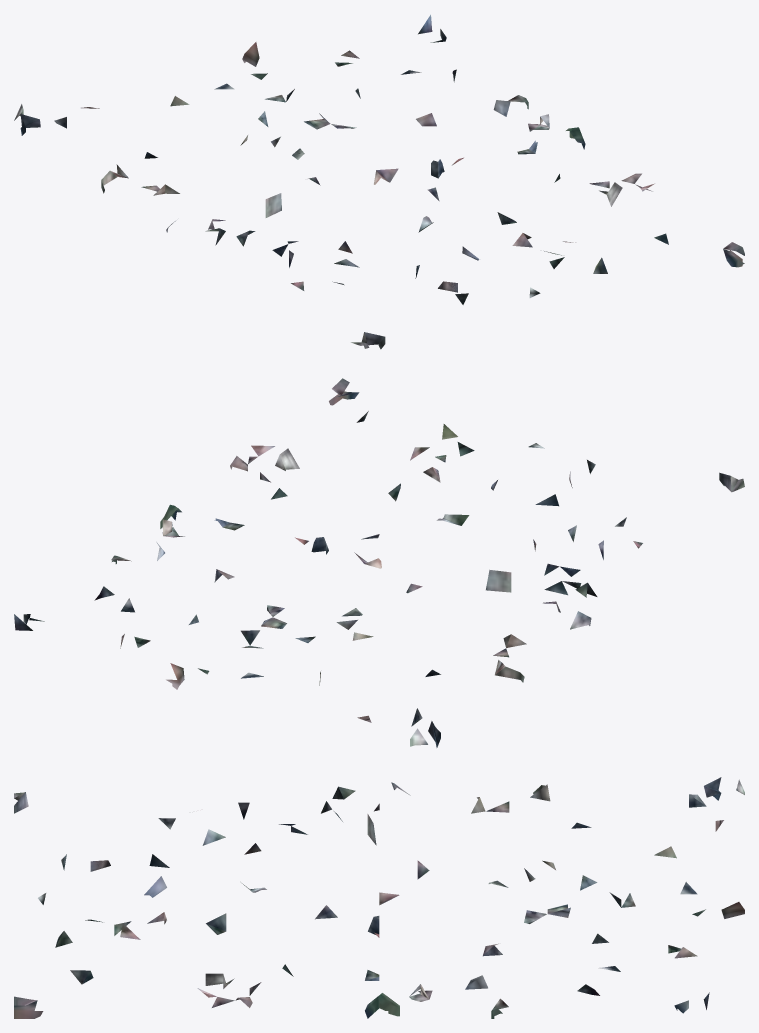
3 renders of one model, top to bottom at view 1: azimuth 30°, elevation 25°; view 2: azimuth 150°, elevation 25°; view 3: azimuth 270°, elevation 25°, orthographic. The views are drawn at different scales.
Visible parts, largest first — view 1: 3043627270436142_1; view 2: 3043627270436142_1; view 3: 3043627270436142_1.
Part boxes in pixels (x1,y1,x2,y2): 3043627270436142_1: (14,14,744,349); 3043627270436142_1: (14,378,744,747); 3043627270436142_1: (14,777,744,1018).
Bounding box in the file's own units: 439 × 32.03 × 612.
Materials: 1 (1 with a texture image).
